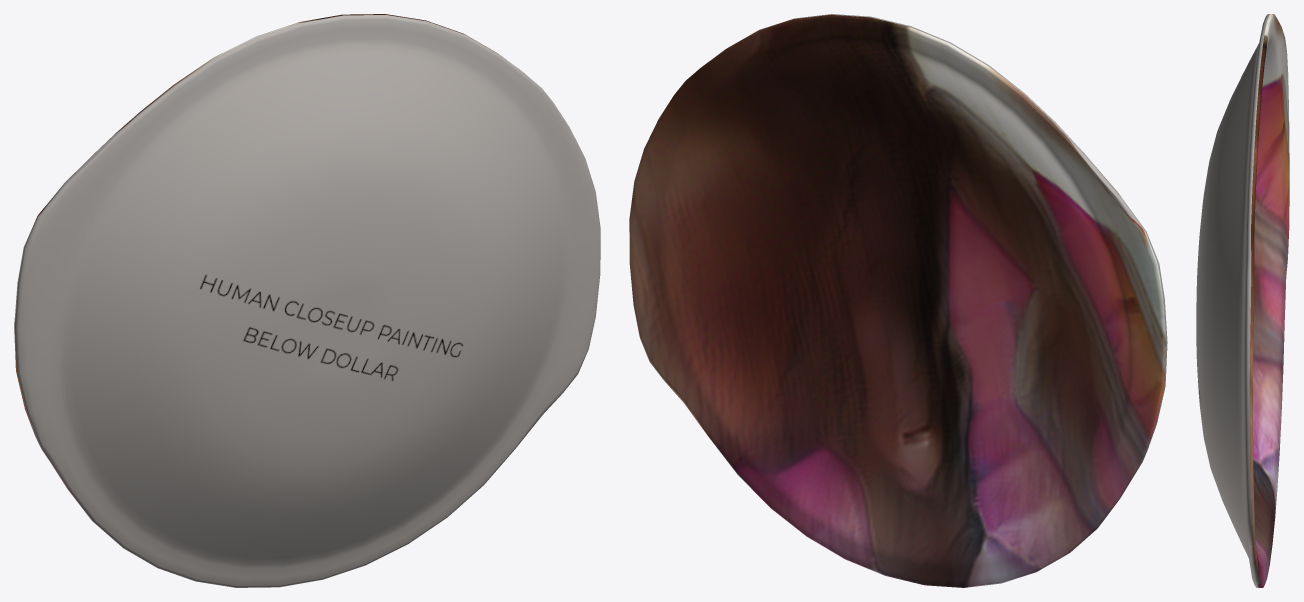
3 views of the same model, side by side, from view 1: azimuth 30°, elevation 25°; view 2: azimuth 150°, elevation 25°; view 3: azimuth 270°, elevation 25° (orthographic). The views are drawn at different scales.
Parts seen in each view (by area): view 1: bluewhitered39:_bluewhitered_39_remodel1 group; view 2: bluewhitered39:_bluewhitered_39_remodel1 group; view 3: bluewhitered39:_bluewhitered_39_remodel1 group.
Boxes of the visible parts, <box> form: bluewhitered39:_bluewhitered_39_remodel1 group: <box>14,14,600,587</box>; bluewhitered39:_bluewhitered_39_remodel1 group: <box>629,14,1167,587</box>; bluewhitered39:_bluewhitered_39_remodel1 group: <box>1196,14,1289,587</box>.
Size of the model in its own units: 8.8 by 8.37 by 1.36.
Materials: 1 (1 with a texture image).
